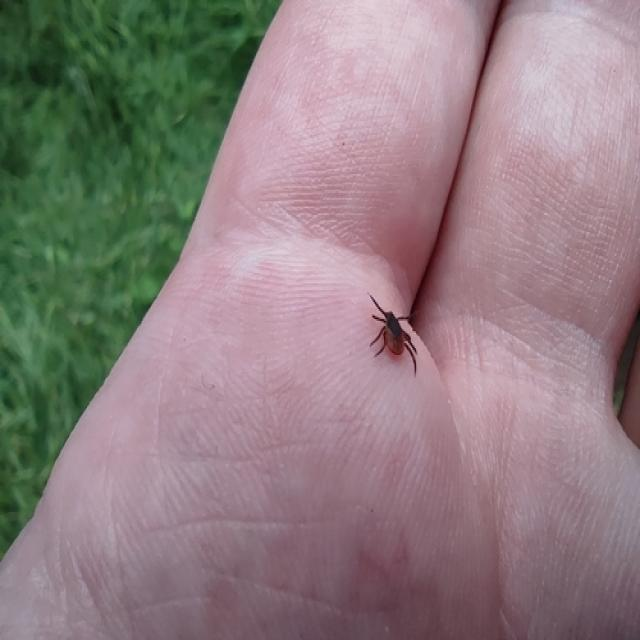Ixodes Ricinus-F: (370, 295, 421, 377)
